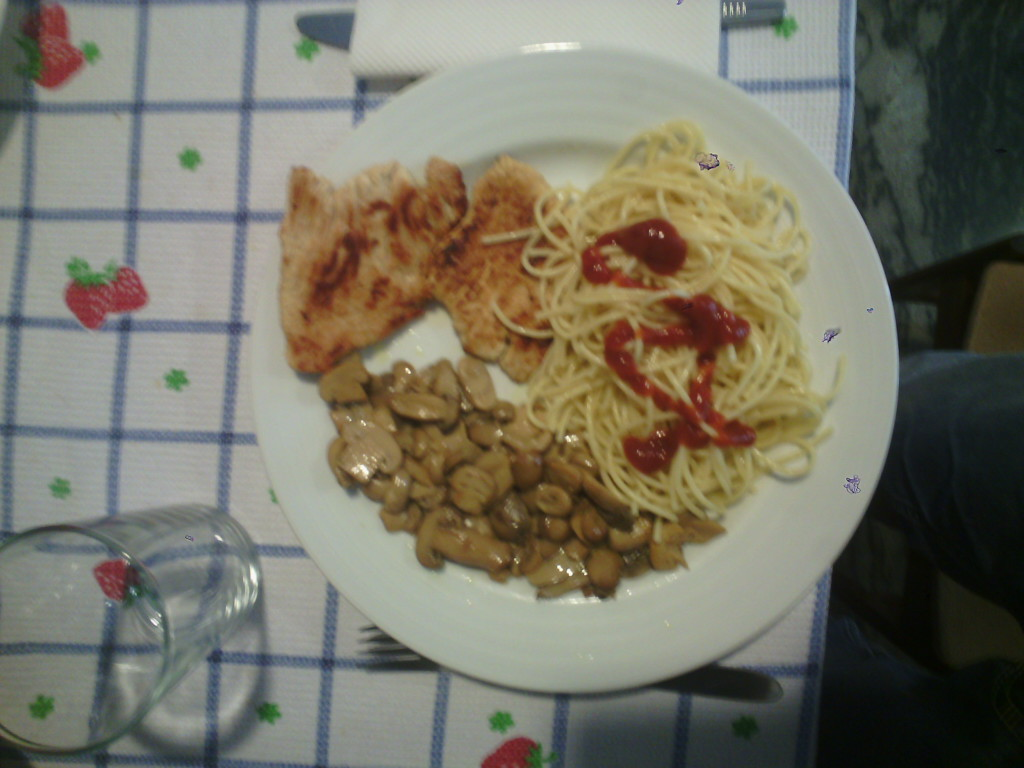81-100: (257, 48, 898, 694)
